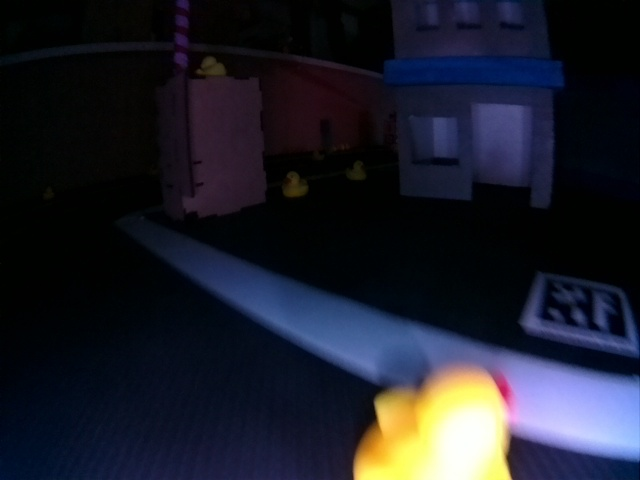Duckie: (353, 361, 510, 479), (284, 171, 307, 197), (203, 56, 225, 71), (349, 160, 366, 179)
QR code: (531, 271, 636, 349)
